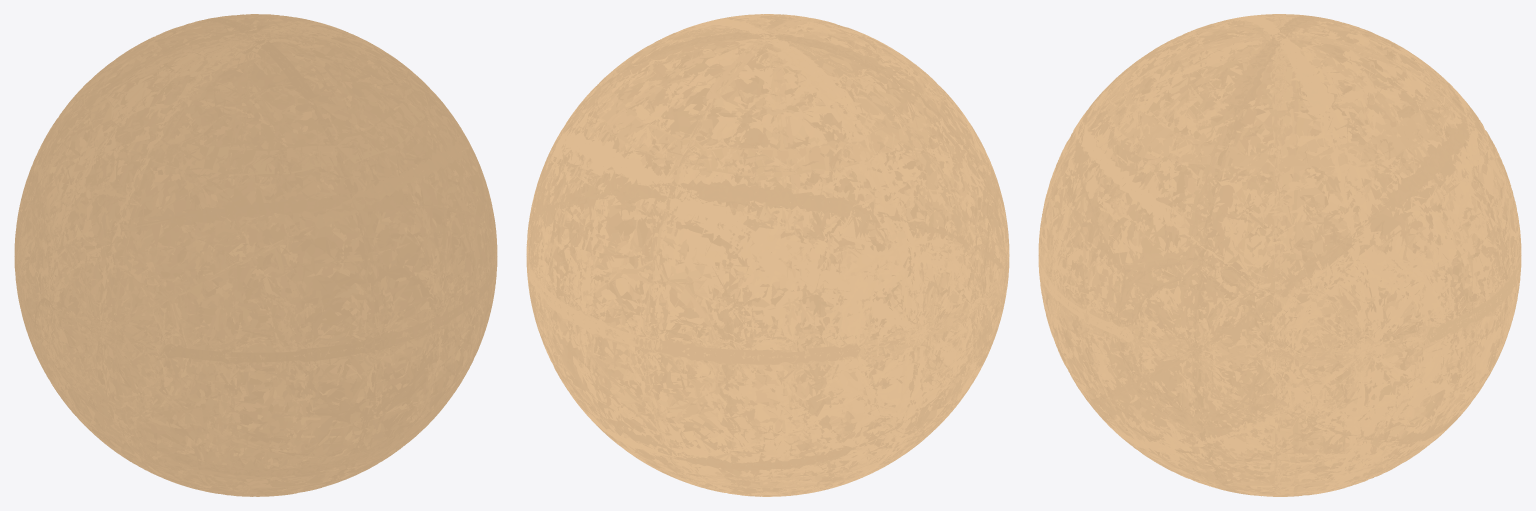
3 renders of one model, left to right at view 1: azimuth 30°, elevation 25°; view 2: azimuth 150°, elevation 25°; view 3: azimuth 270°, elevation 25°, orthographic.
Visible parts, largest first — view 1: conductor_guide; view 2: conductor_guide; view 3: conductor_guide.
Boxes of the visible parts, x1=… form: conductor_guide: x1=14, y1=14, x2=497, y2=496; conductor_guide: x1=526, y1=14, x2=1009, y2=496; conductor_guide: x1=1038, y1=14, x2=1521, y2=496.
Size of the model in its own units: 2 by 2 by 2.
